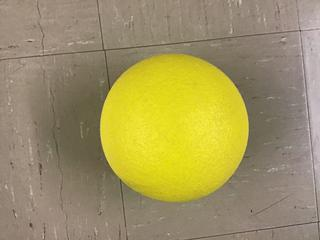power_cell: (92, 48, 274, 210)
